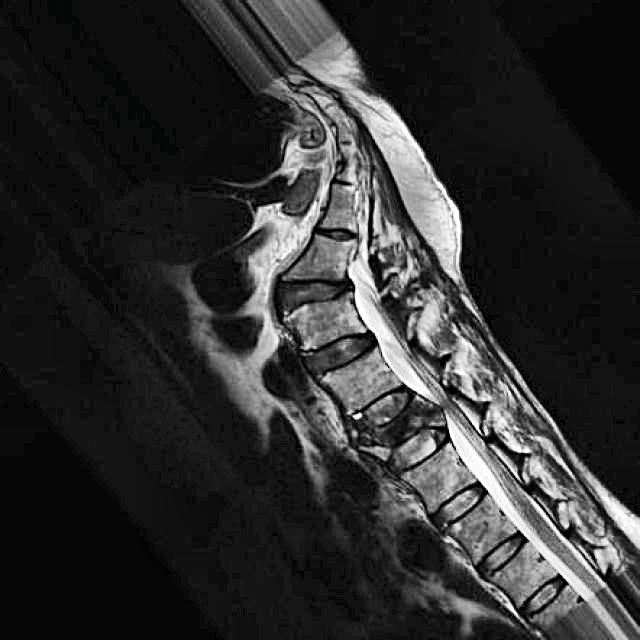Comminuted: (339, 386, 461, 491)
